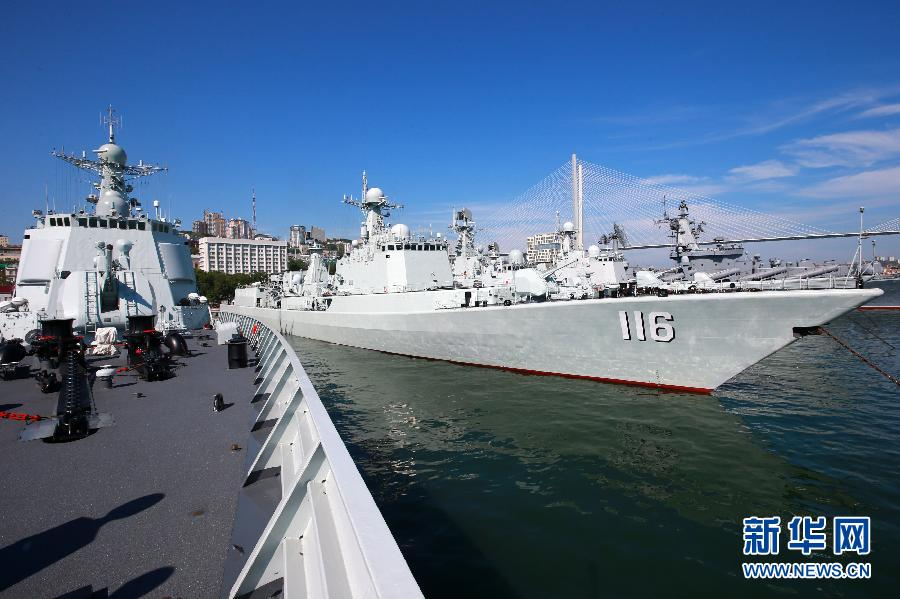warship: (219, 176, 888, 409)
